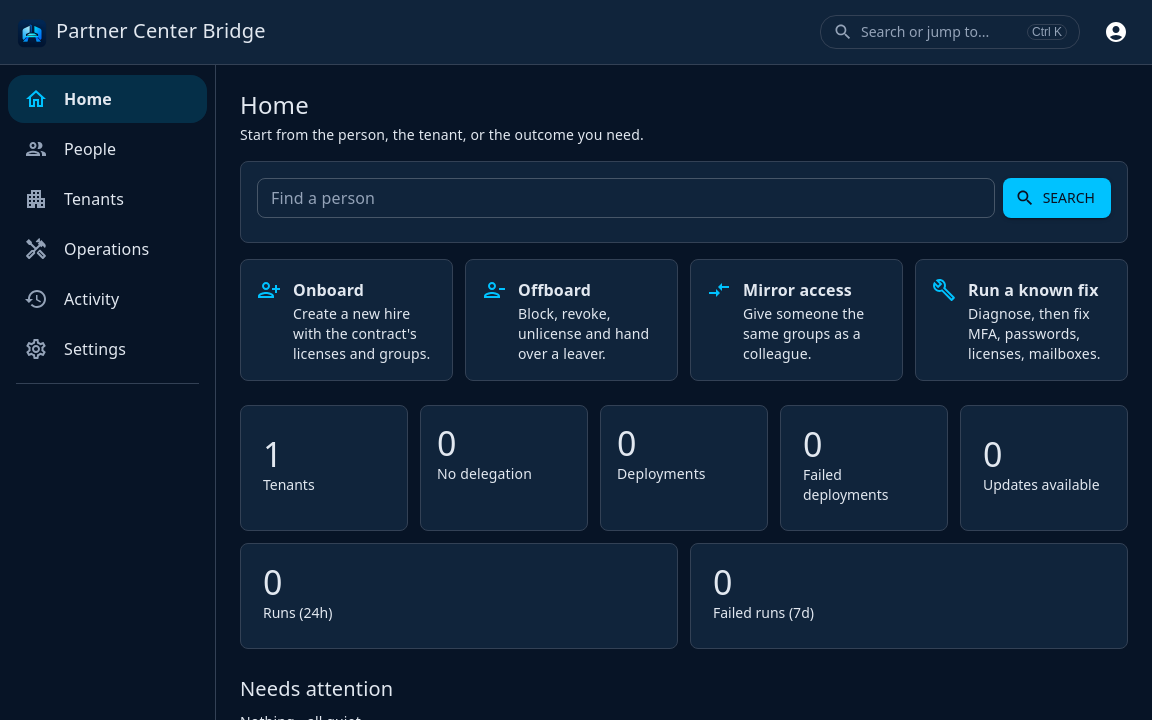
Test: App routing › opens the command palette from anywhere in the shell and jumps to the chosen page
This screenshot has width=1152, height=720.
Expected: the heading "Home" is shown, [240,89,309,121]
Expected: the button with aria-label "Search and jump (Ctrl+K)" is shown, [820,15,1080,49]
Type keys "{Control>}k{/Control}"
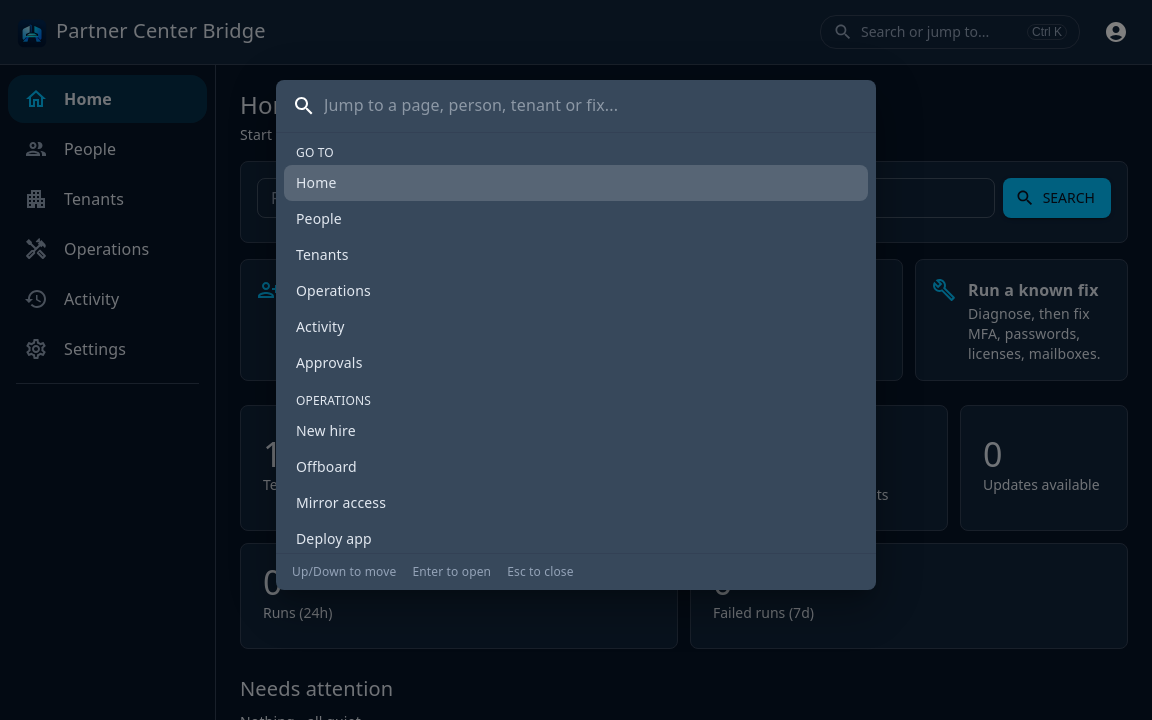
Type "mirror" into the dropdown.
click(592, 106); type("mirror")  # box [324,90,860,122]
Then press Arrowdown, Enter
(page scrolled)
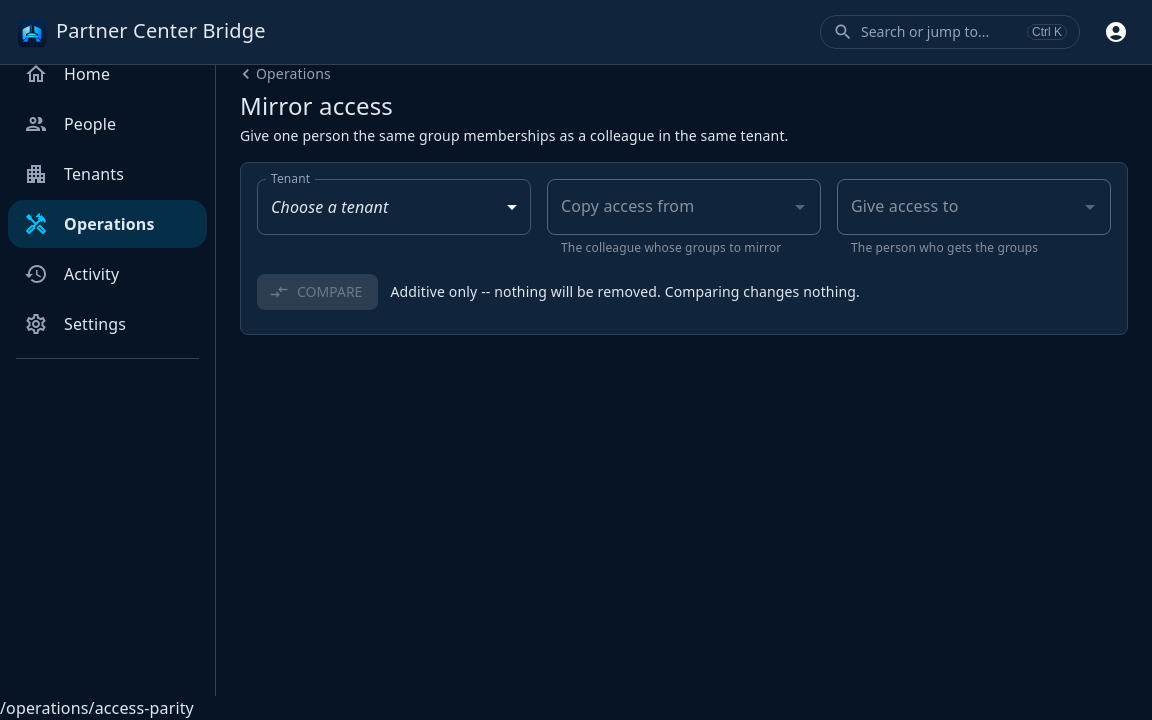
Expected: the heading "Mirror access" is shown, [240,90,393,122]
Expected: the text with test id "location" reads "/operations/access-parity", [0,697,194,719]
